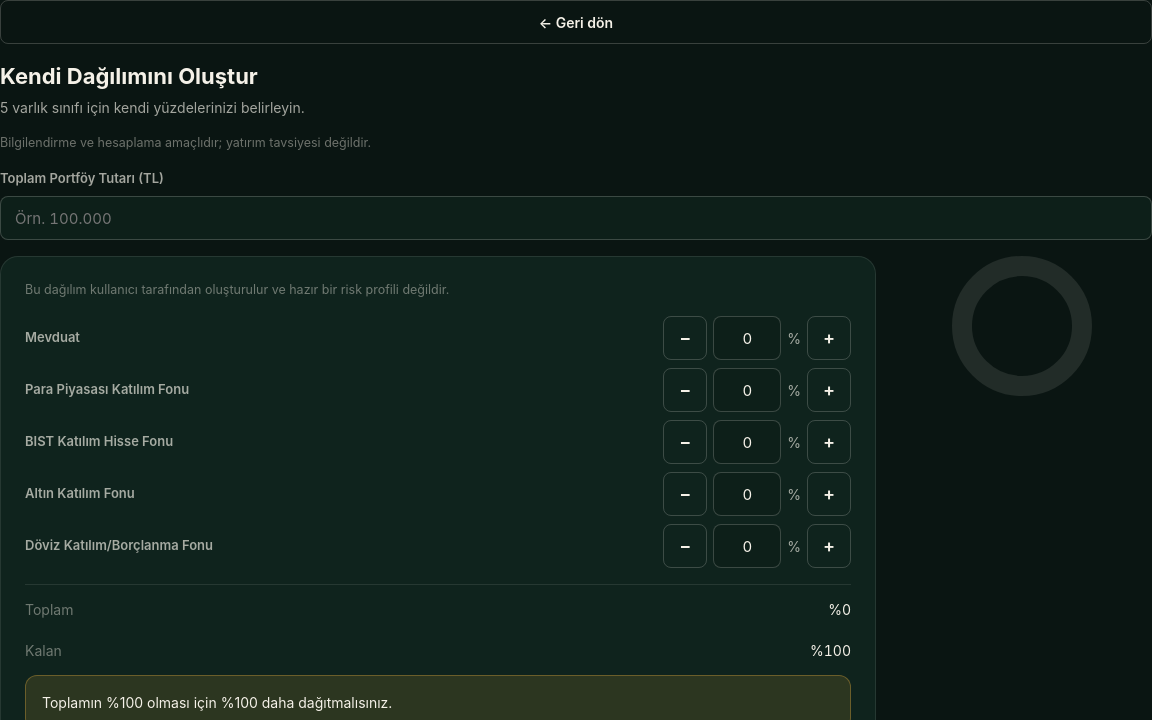
Test: CustomAllocationPage — toplam kontrolü › tüm tutar tek bir kategoriye %100 verilebilir
Replace the text in the number field labelled "Döviz Katılım/Borçlanma Fonu" with "100" at (747, 546), box [713, 524, 781, 568]
(page scrolled)
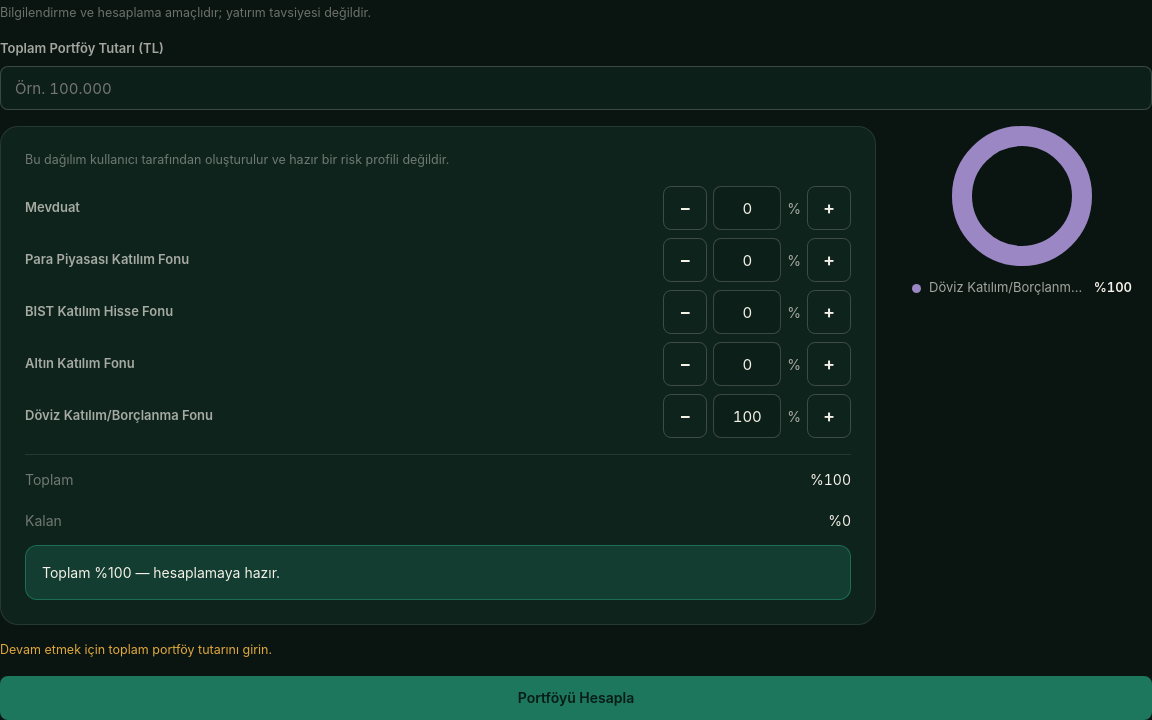
expect the text "Toplam %100 — hesaplamaya hazır." is shown: met, box [25, 545, 851, 600]
